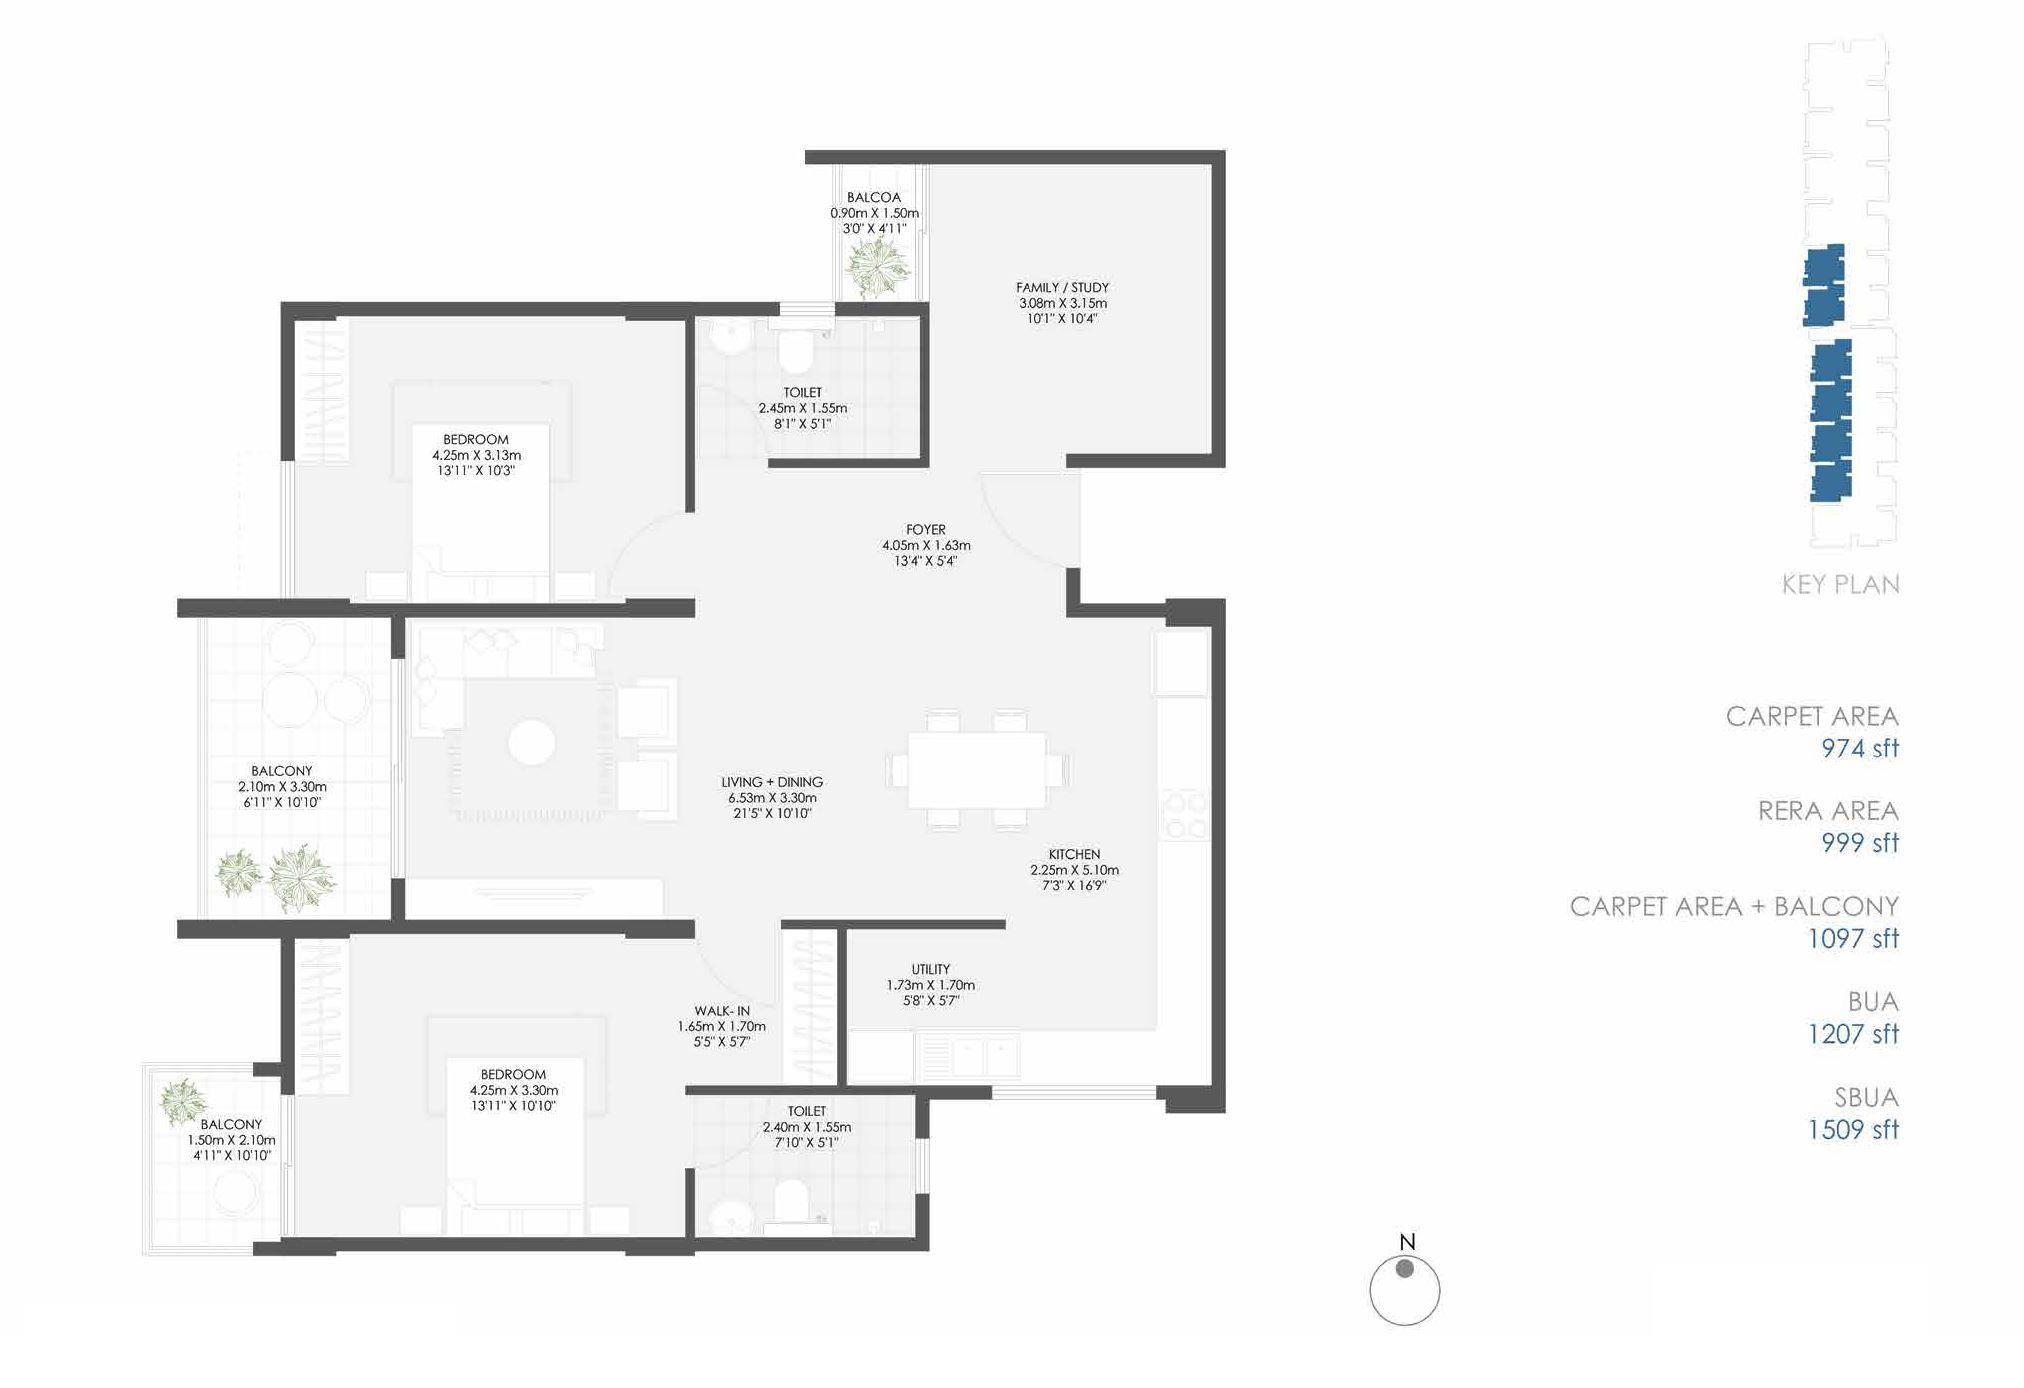Balcony: (195, 609, 392, 919), (151, 1074, 285, 1251)
Bed: (441, 1056, 586, 1239), (412, 426, 551, 605)
Bedroom: (297, 936, 678, 1237), (297, 323, 684, 602)
Dining Room: (746, 620, 1087, 913)
Dining table: (877, 697, 1080, 839)
Foyer: (695, 468, 1070, 609)
Kitchen: (1021, 622, 1210, 1086)
Living Room: (397, 614, 737, 919)
Sofa: (417, 623, 603, 676), (417, 625, 466, 726), (617, 680, 677, 745), (618, 752, 674, 822)
Wardrobe: (295, 934, 351, 1096), (786, 936, 837, 1088), (295, 325, 346, 459)
balcoa: (837, 162, 920, 299)
door: (974, 466, 1080, 560), (600, 509, 697, 605), (684, 1093, 781, 1177), (694, 923, 781, 1009), (694, 380, 772, 468), (386, 654, 414, 882), (280, 1093, 309, 1237), (914, 155, 937, 305)
fridge: (1155, 626, 1210, 694)
kitchen-slab: (1160, 700, 1215, 1082), (915, 1031, 1213, 1083)
sink: (924, 1034, 1018, 1080), (706, 317, 754, 359), (709, 1199, 754, 1236)
stove: (1160, 791, 1213, 842)
study: (930, 165, 1210, 452)
toilet: (692, 311, 923, 459), (692, 1094, 920, 1236)
tv: (478, 877, 595, 911)
utility: (847, 928, 1014, 1082)
walkin: (680, 928, 841, 1080)
washing-machine: (843, 1028, 915, 1083)
